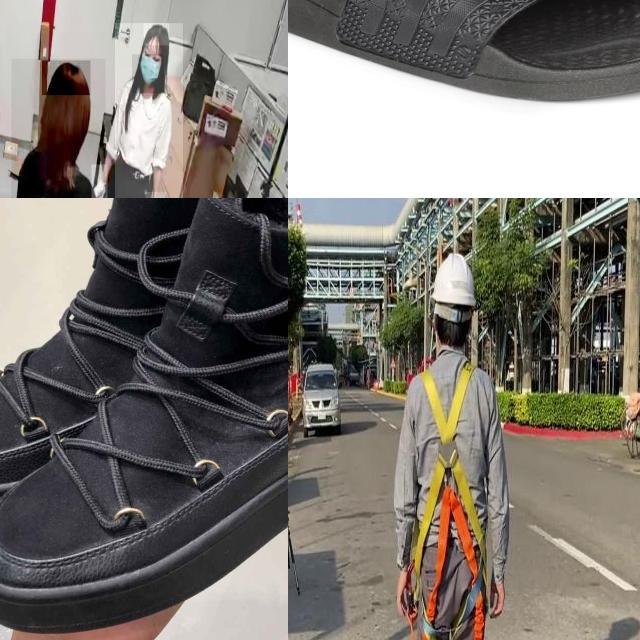Harness: (412, 362, 486, 640)
Sandals: (0, 198, 288, 640), (288, 0, 640, 105)
face_mask: (132, 54, 164, 94)
hand_glove: (91, 164, 108, 198)
head_nohelmet: (42, 60, 91, 96), (144, 23, 170, 46)
person: (11, 59, 106, 198), (114, 23, 183, 198)
